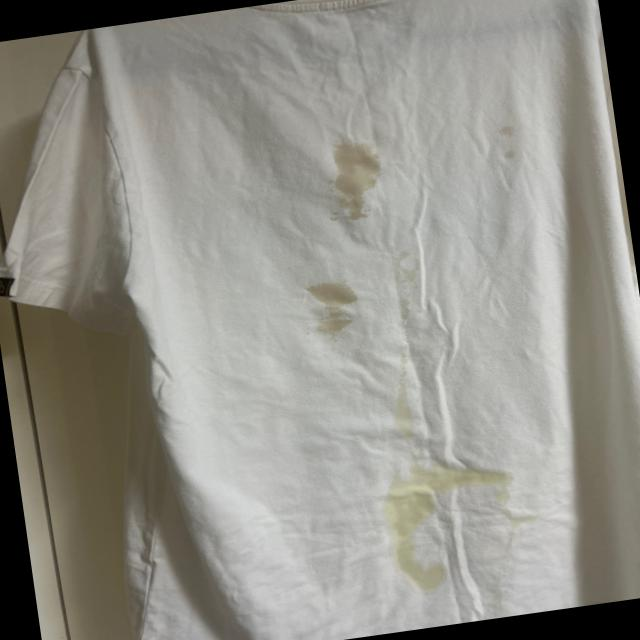stain: (384, 450, 518, 509), (382, 496, 454, 602), (316, 134, 389, 230), (302, 273, 369, 353), (496, 118, 548, 176)
